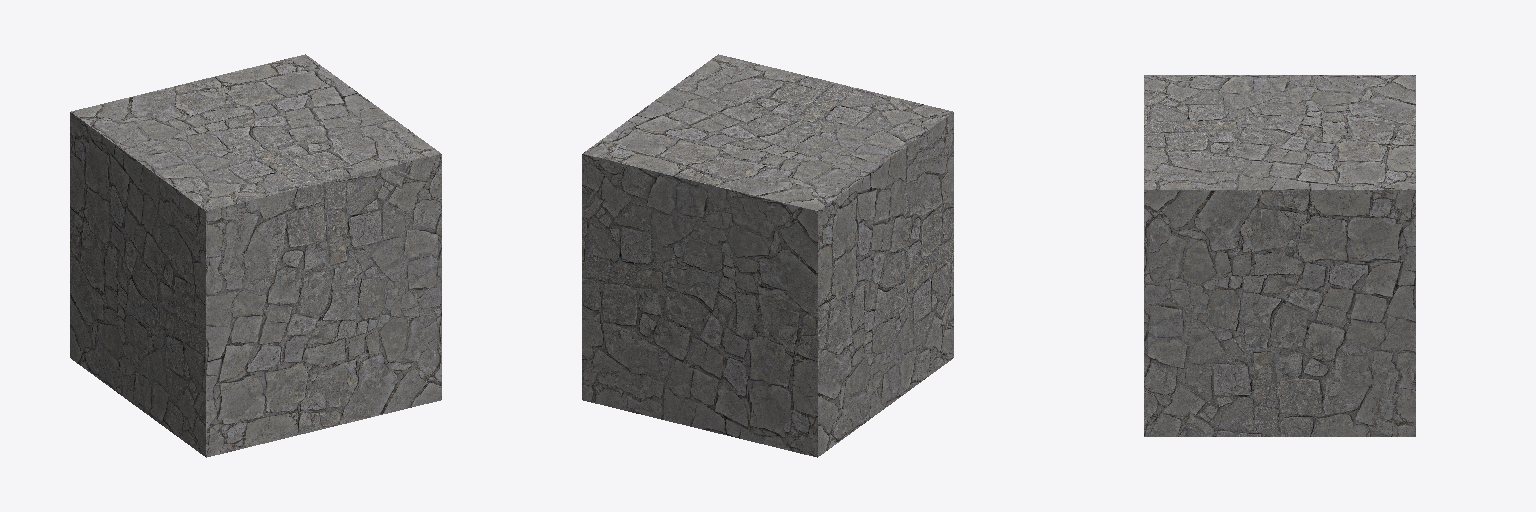
3 views of the same model, side by side, from view 1: azimuth 30°, elevation 25°; view 2: azimuth 150°, elevation 25°; view 3: azimuth 270°, elevation 25° (orthographic).
Visible parts, largest first — view 1: Cube_Cube.001; view 2: Cube_Cube.001; view 3: Cube_Cube.001.
Part boxes in pixels (left/top/right/bottom): Cube_Cube.001: left=70, top=54, right=441, bottom=457; Cube_Cube.001: left=582, top=54, right=953, bottom=457; Cube_Cube.001: left=1144, top=75, right=1415, bottom=436.
Bounding box in the file's own units: 2 × 2 × 2.
1 materials, 1 textured.